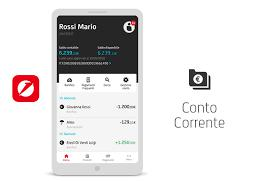Smartphone: (57, 9, 140, 175)
